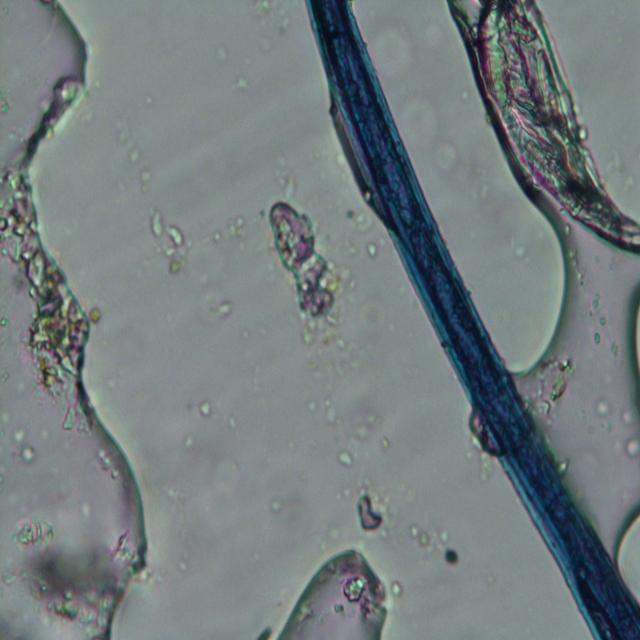Air bubble: (0, 1, 150, 638), (501, 201, 577, 379), (274, 544, 390, 639), (613, 508, 640, 598), (627, 287, 640, 389)
Background material: (475, 3, 640, 255), (0, 172, 93, 380), (2, 512, 125, 637), (265, 199, 349, 344), (145, 464, 203, 592), (392, 88, 462, 179), (197, 451, 252, 536), (573, 276, 620, 364), (369, 10, 415, 84), (43, 365, 87, 442), (526, 353, 570, 428), (307, 346, 350, 422), (114, 111, 152, 197), (237, 1, 290, 58), (410, 518, 462, 569), (149, 209, 189, 274), (354, 486, 393, 537), (586, 390, 620, 438), (206, 214, 248, 249), (349, 297, 385, 334), (351, 404, 381, 438), (11, 426, 36, 466), (202, 293, 234, 323), (348, 204, 374, 230), (364, 230, 378, 271), (212, 35, 230, 66), (229, 70, 248, 94), (332, 447, 354, 466), (198, 397, 214, 421), (624, 438, 640, 462), (376, 436, 395, 456), (177, 436, 194, 452)
Cotton: (304, 0, 640, 638)
